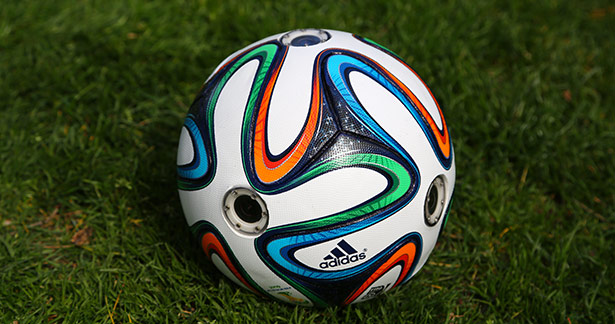football: (172, 27, 461, 306)
